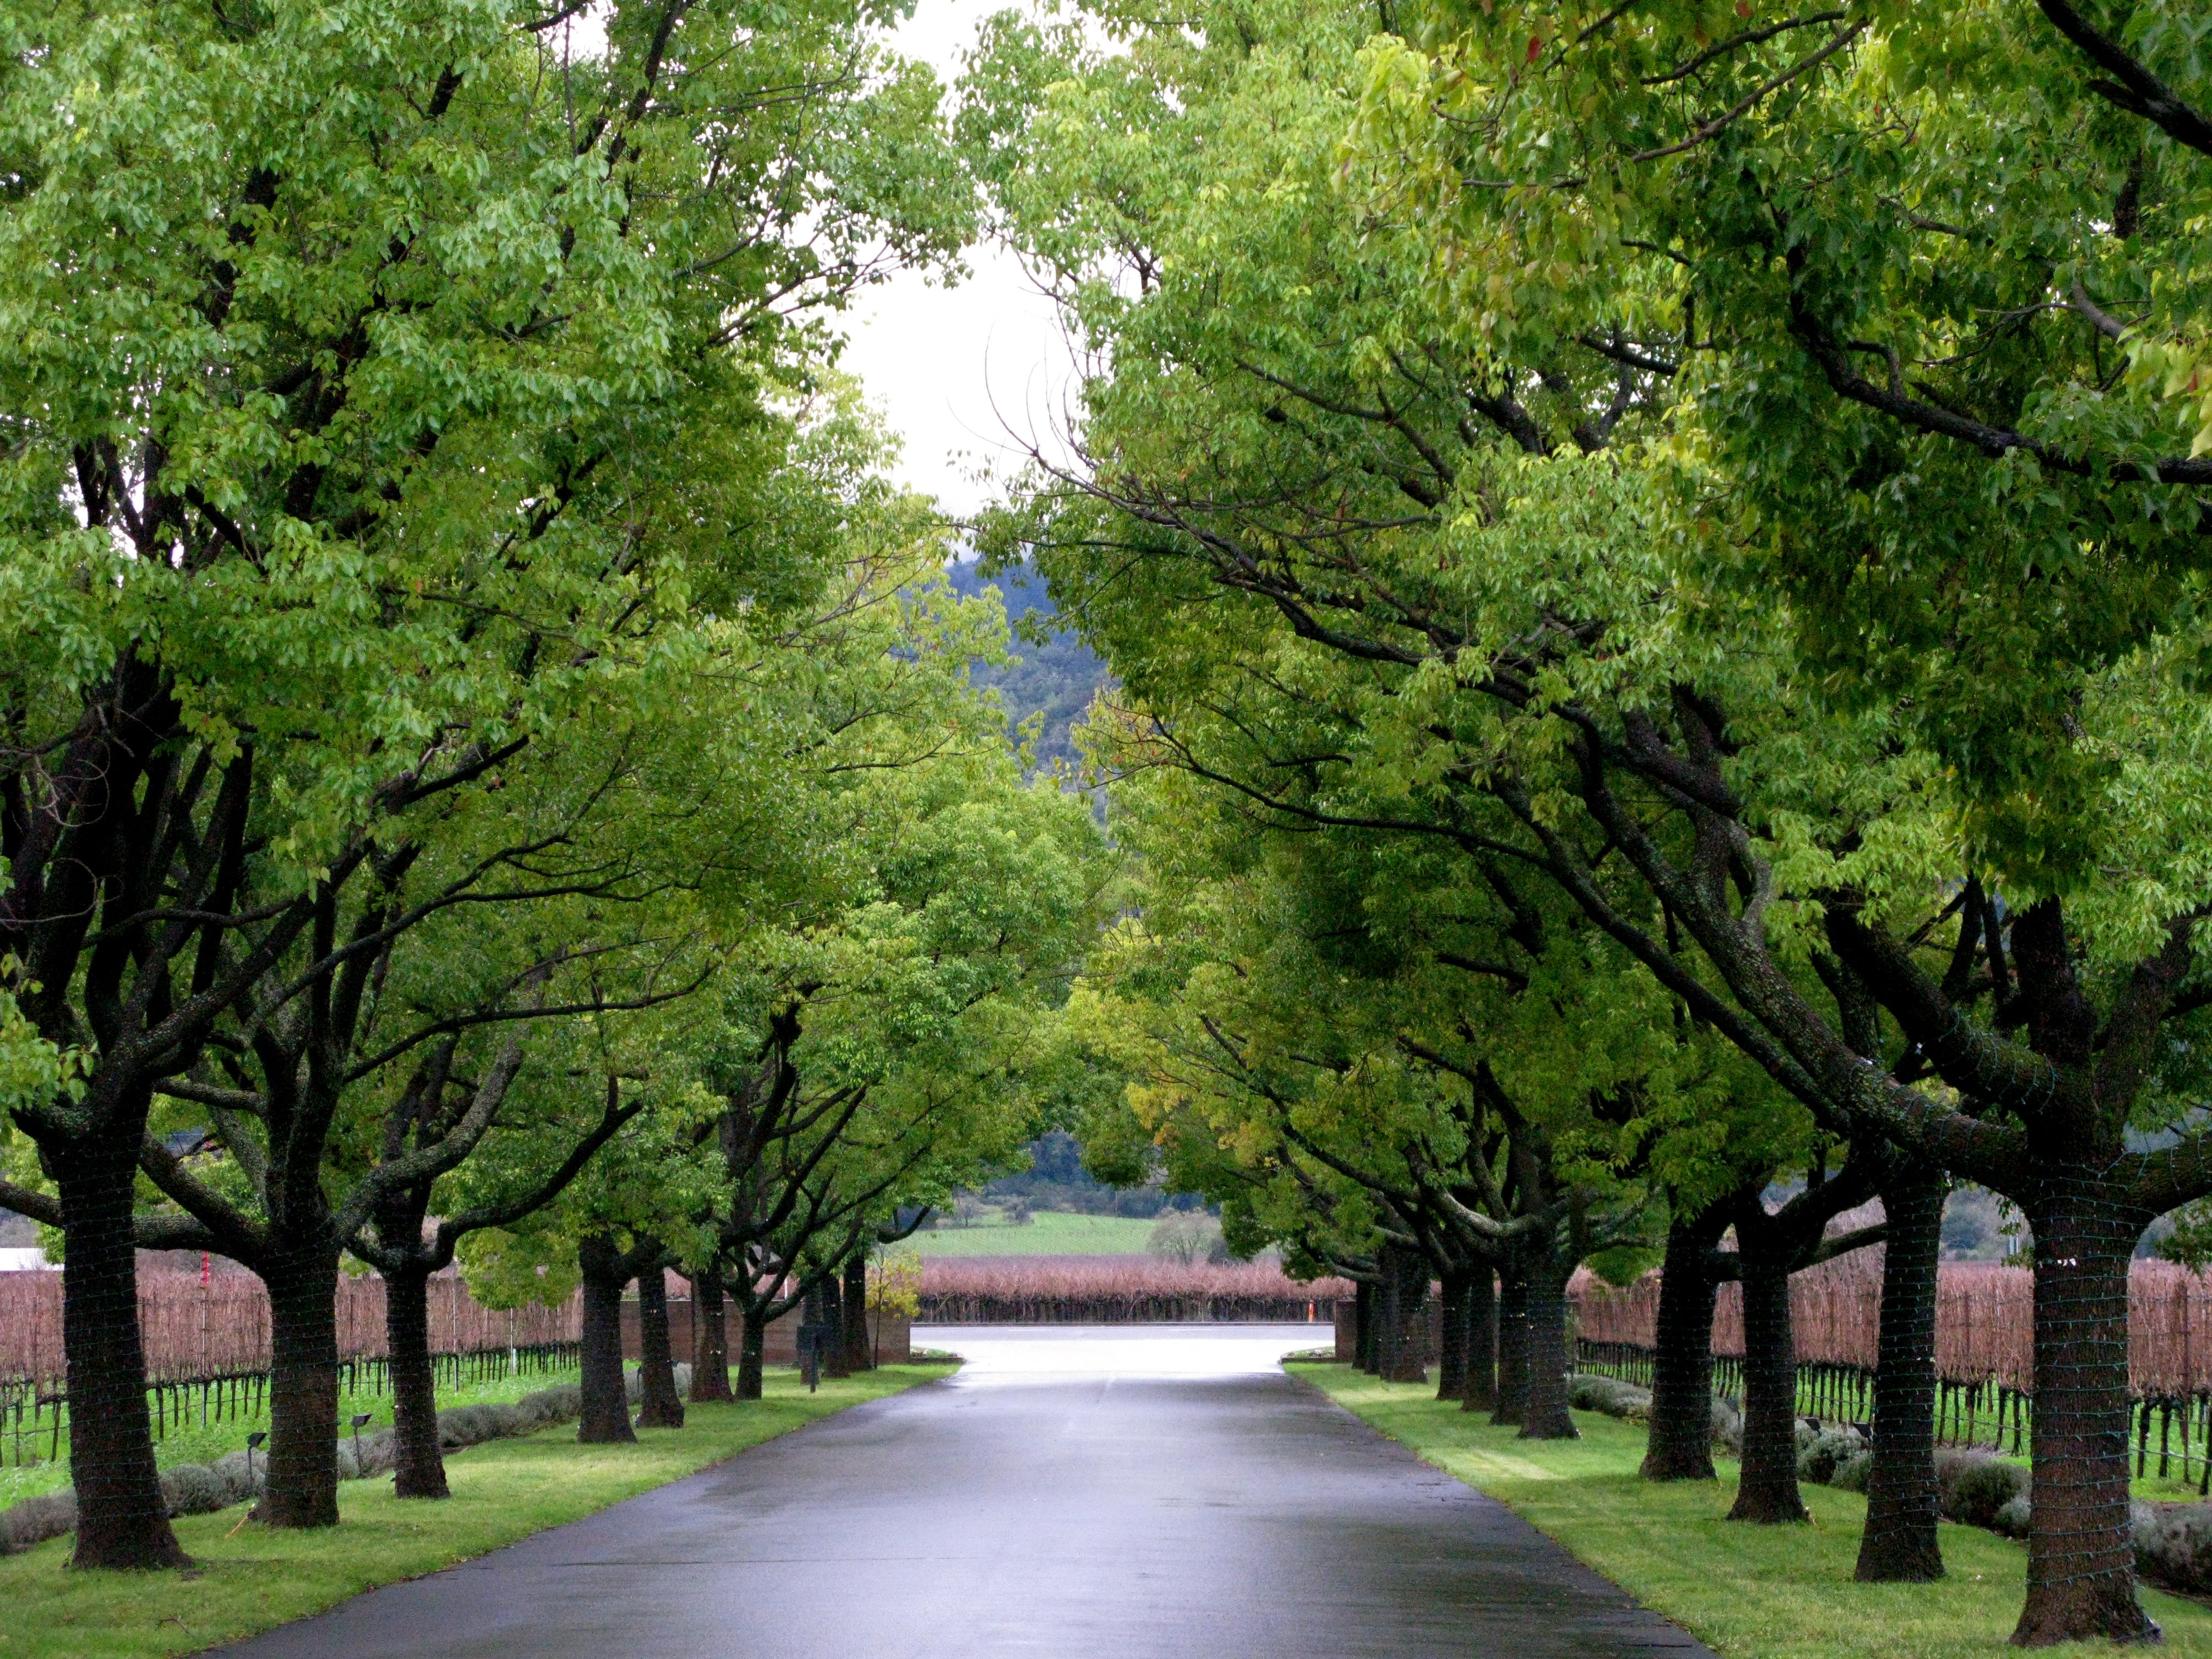tree: (2019, 1091, 2163, 1643), (45, 1098, 195, 1565), (1872, 1150, 1940, 1581), (254, 1213, 343, 1527), (1735, 1202, 1810, 1523), (380, 1220, 448, 1502), (1656, 1171, 1716, 1478), (582, 1229, 636, 1443), (1526, 1241, 1578, 1441), (1487, 1243, 1522, 1427), (641, 1270, 681, 1427), (1463, 1253, 1498, 1412), (693, 1272, 726, 1401), (1437, 1256, 1465, 1401), (738, 1279, 763, 1401), (1399, 1262, 1423, 1382)
tree branches: (1381, 525, 1752, 911), (143, 239, 505, 472), (380, 615, 620, 899), (1721, 951, 1989, 1115), (350, 1033, 629, 1162), (78, 859, 289, 1016), (1480, 1023, 1674, 1133), (1308, 1091, 1482, 1208), (716, 1133, 873, 1229)
